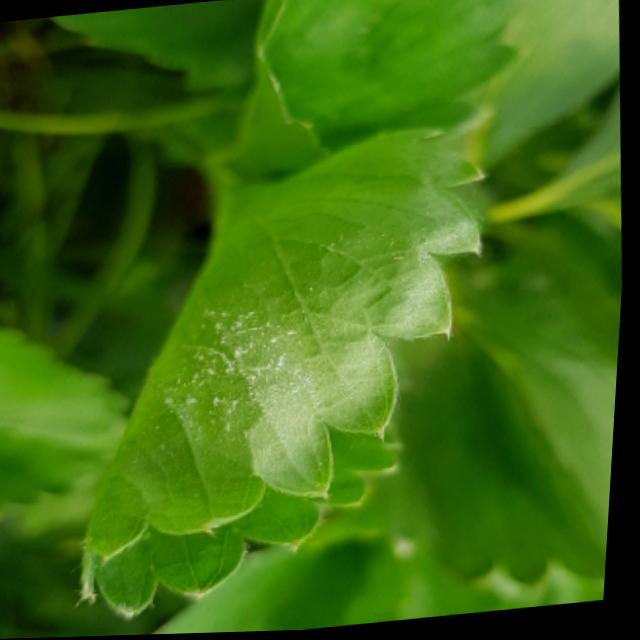Powdery Mildew Leaf: (86, 129, 487, 621)
